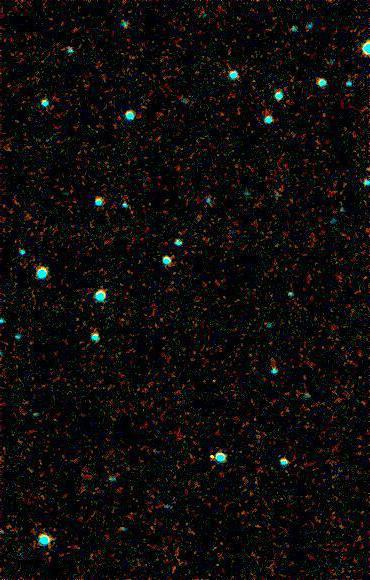star: (197, 442, 227, 472)
